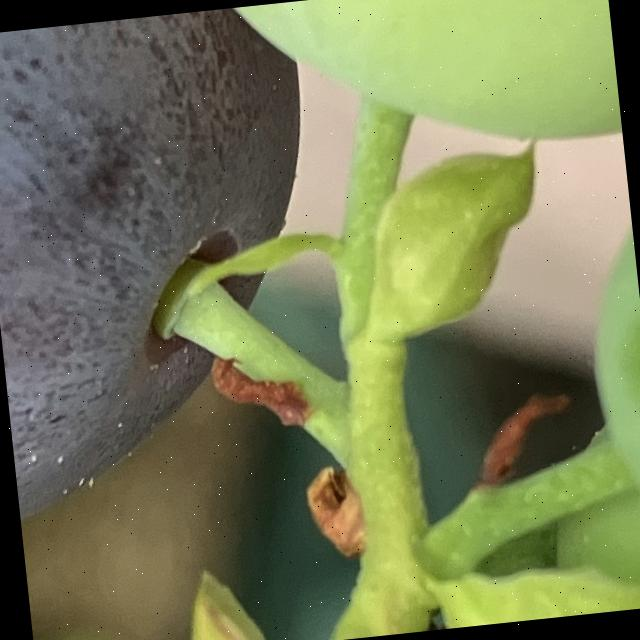Blueberries: (0, 1, 343, 535)
